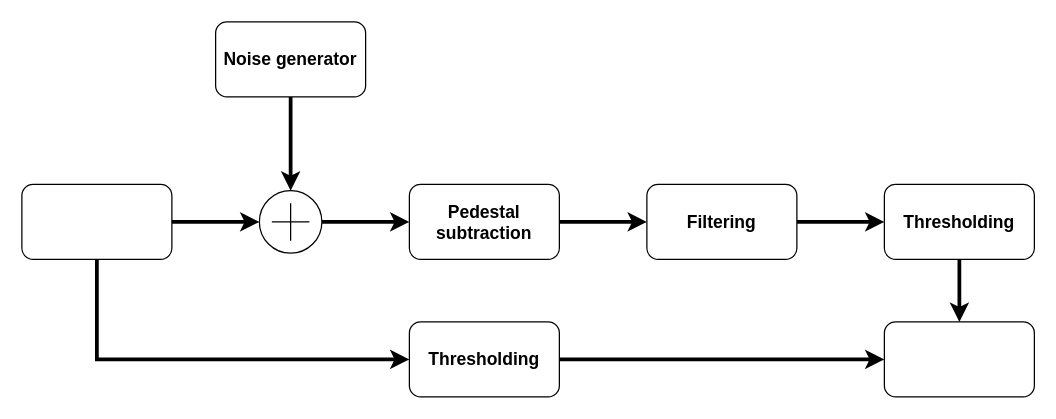
This 1056x419 diagram has some shape labels left out. The shapes that lost their labels are listed below. From the top down, each one's centre as x and y in pixels, then its label:
the point at 96,221: Track generator
the point at 958,359: Efficiency
